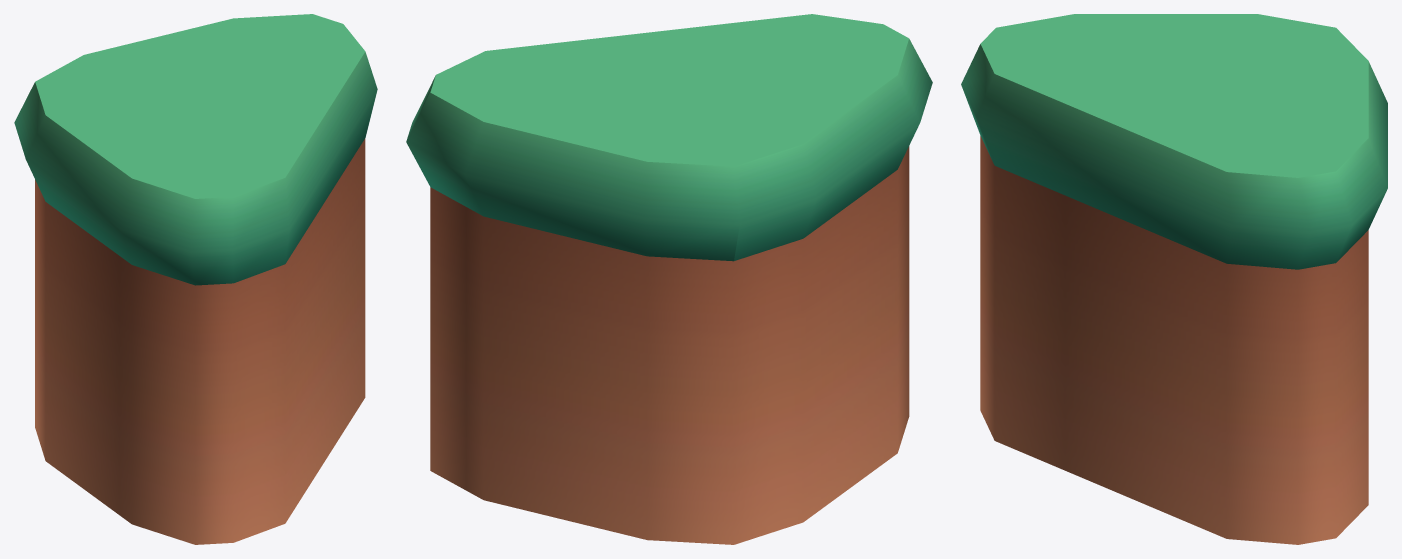
Rendered from kenney-platformer-block-grass-corner.glb.
3 views of the same model, side by side, from view 1: azimuth 30°, elevation 25°; view 2: azimuth 150°, elevation 25°; view 3: azimuth 270°, elevation 25° (orthographic). The views are drawn at different scales.
Visible parts, largest first — view 1: block-grass-corner; view 2: block-grass-corner; view 3: block-grass-corner.
Part boxes in pixels (x1,y1,x2,y2): block-grass-corner: (14,14,377,544); block-grass-corner: (406,14,932,544); block-grass-corner: (961,14,1387,544).
Size of the model in its own units: 1.05 by 1 by 1.05.
1 material, 1 textured.
